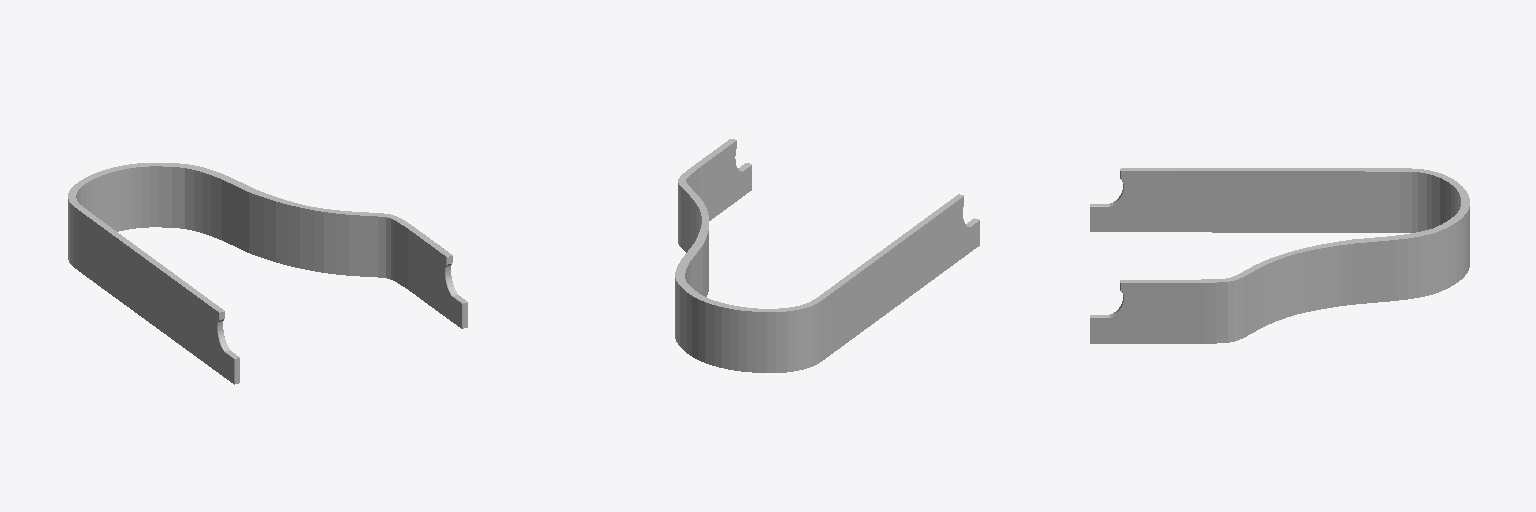
Rendered from Piano_part_3.obj.
3 views of the same model, side by side, from view 1: azimuth 30°, elevation 25°; view 2: azimuth 150°, elevation 25°; view 3: azimuth 270°, elevation 25° (orthographic).
Parts seen in each view (by area): view 1: default; view 2: default; view 3: default.
Boxes of the visible parts, x1,y1,x2,y2 form: default: [68, 163, 467, 384]; default: [675, 139, 979, 372]; default: [1090, 168, 1469, 343].
Size of the model in its own units: 84.75 by 21.11 by 119.